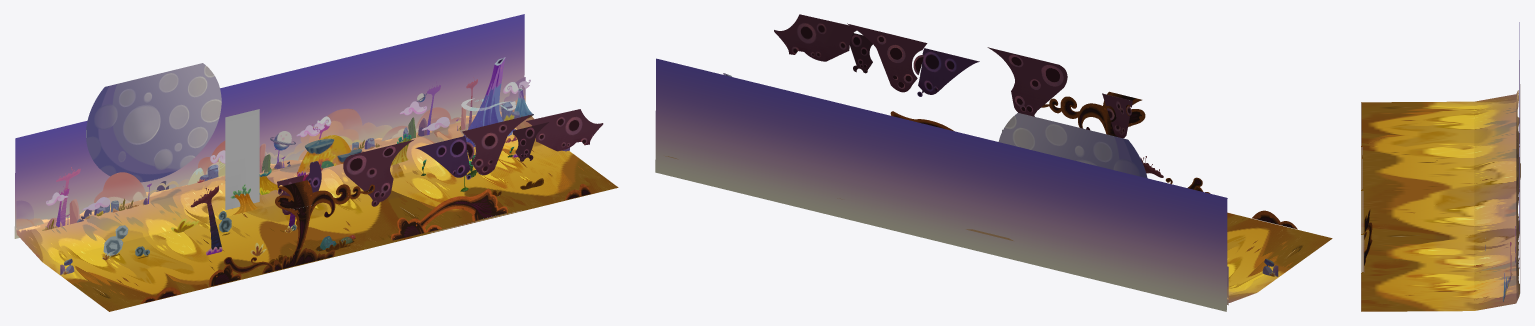
3 views of the same model, side by side, from view 1: azimuth 30°, elevation 25°; view 2: azimuth 150°, elevation 25°; view 3: azimuth 270°, elevation 25° (orthographic). The views are drawn at different scales.
Parts seen in each view (by area): view 1: STCS_Waixingren_bg_MD_2, STCS_Waixingren_bg_MD_1, STCS_Waixingren_bg_MD_68, STCS_Waixingren_bg_MD_78, STCS_Waixingren_bg_MD_7, STCS_Waixingren_bg_MD_76, STCS_Waixingren_bg_MD_82, STCS_Waixingren_bg_MD_5, STCS_Waixingren_bg_MD_86, STCS_Waixingren_bg_MD_84, STCS_Waixingren_bg_MD_63, STCS_Waixingren_bg_MD_79 (+12 smaller); view 2: STCS_Waixingren_bg_MD_1, STCS_Waixingren_bg_MD_2, STCS_Waixingren_bg_MD_68, STCS_Waixingren_bg_MD_82, STCS_Waixingren_bg_MD_86, STCS_Waixingren_bg_MD_84, STCS_Waixingren_bg_MD_83, STCS_Waixingren_bg_MD_79, STCS_Waixingren_bg_MD_80, STCS_Waixingren_bg_MD_85, STCS_Waixingren_bg_MD_7; view 3: STCS_Waixingren_bg_MD_2, STCS_Waixingren_bg_MD_1, STCS_Waixingren_bg_MD_5.
Boxes of the visible parts, x1=… form: STCS_Waixingren_bg_MD_2: x1=16, y1=109, x2=618, y2=311; STCS_Waixingren_bg_MD_1: x1=14, y1=14, x2=524, y2=238; STCS_Waixingren_bg_MD_68: x1=86, y1=63, x2=221, y2=182; STCS_Waixingren_bg_MD_78: x1=225, y1=109, x2=259, y2=210; STCS_Waixingren_bg_MD_7: x1=208, y1=189, x2=374, y2=286; STCS_Waixingren_bg_MD_76: x1=155, y1=108, x2=392, y2=188; STCS_Waixingren_bg_MD_82: x1=343, y1=139, x2=414, y2=206; STCS_Waixingren_bg_MD_5: x1=391, y1=188, x2=507, y2=240; STCS_Waixingren_bg_MD_86: x1=526, y1=109, x2=603, y2=151; STCS_Waixingren_bg_MD_84: x1=462, y1=114, x2=533, y2=175; STCS_Waixingren_bg_MD_63: x1=16, y1=172, x2=158, y2=235; STCS_Waixingren_bg_MD_79: x1=275, y1=180, x2=374, y2=211; STCS_Waixingren_bg_MD_1: x1=655, y1=58, x2=1227, y2=311; STCS_Waixingren_bg_MD_2: x1=665, y1=156, x2=1332, y2=302; STCS_Waixingren_bg_MD_68: x1=998, y1=113, x2=1147, y2=178; STCS_Waixingren_bg_MD_82: x1=987, y1=47, x2=1067, y2=116; STCS_Waixingren_bg_MD_86: x1=774, y1=14, x2=856, y2=61; STCS_Waixingren_bg_MD_84: x1=847, y1=23, x2=927, y2=92; STCS_Waixingren_bg_MD_83: x1=917, y1=48, x2=979, y2=96; STCS_Waixingren_bg_MD_79: x1=1044, y1=91, x2=1145, y2=126; STCS_Waixingren_bg_MD_80: x1=1102, y1=93, x2=1132, y2=138; STCS_Waixingren_bg_MD_85: x1=850, y1=33, x2=872, y2=73; STCS_Waixingren_bg_MD_7: x1=1041, y1=105, x2=1210, y2=193; STCS_Waixingren_bg_MD_2: x1=1361, y1=90, x2=1520, y2=311; STCS_Waixingren_bg_MD_1: x1=1519, y1=22, x2=1520, y2=293; STCS_Waixingren_bg_MD_5: x1=1364, y1=209, x2=1372, y2=265.
Bounding box in the file's own units: 26.96 × 7.49 × 8.53.
